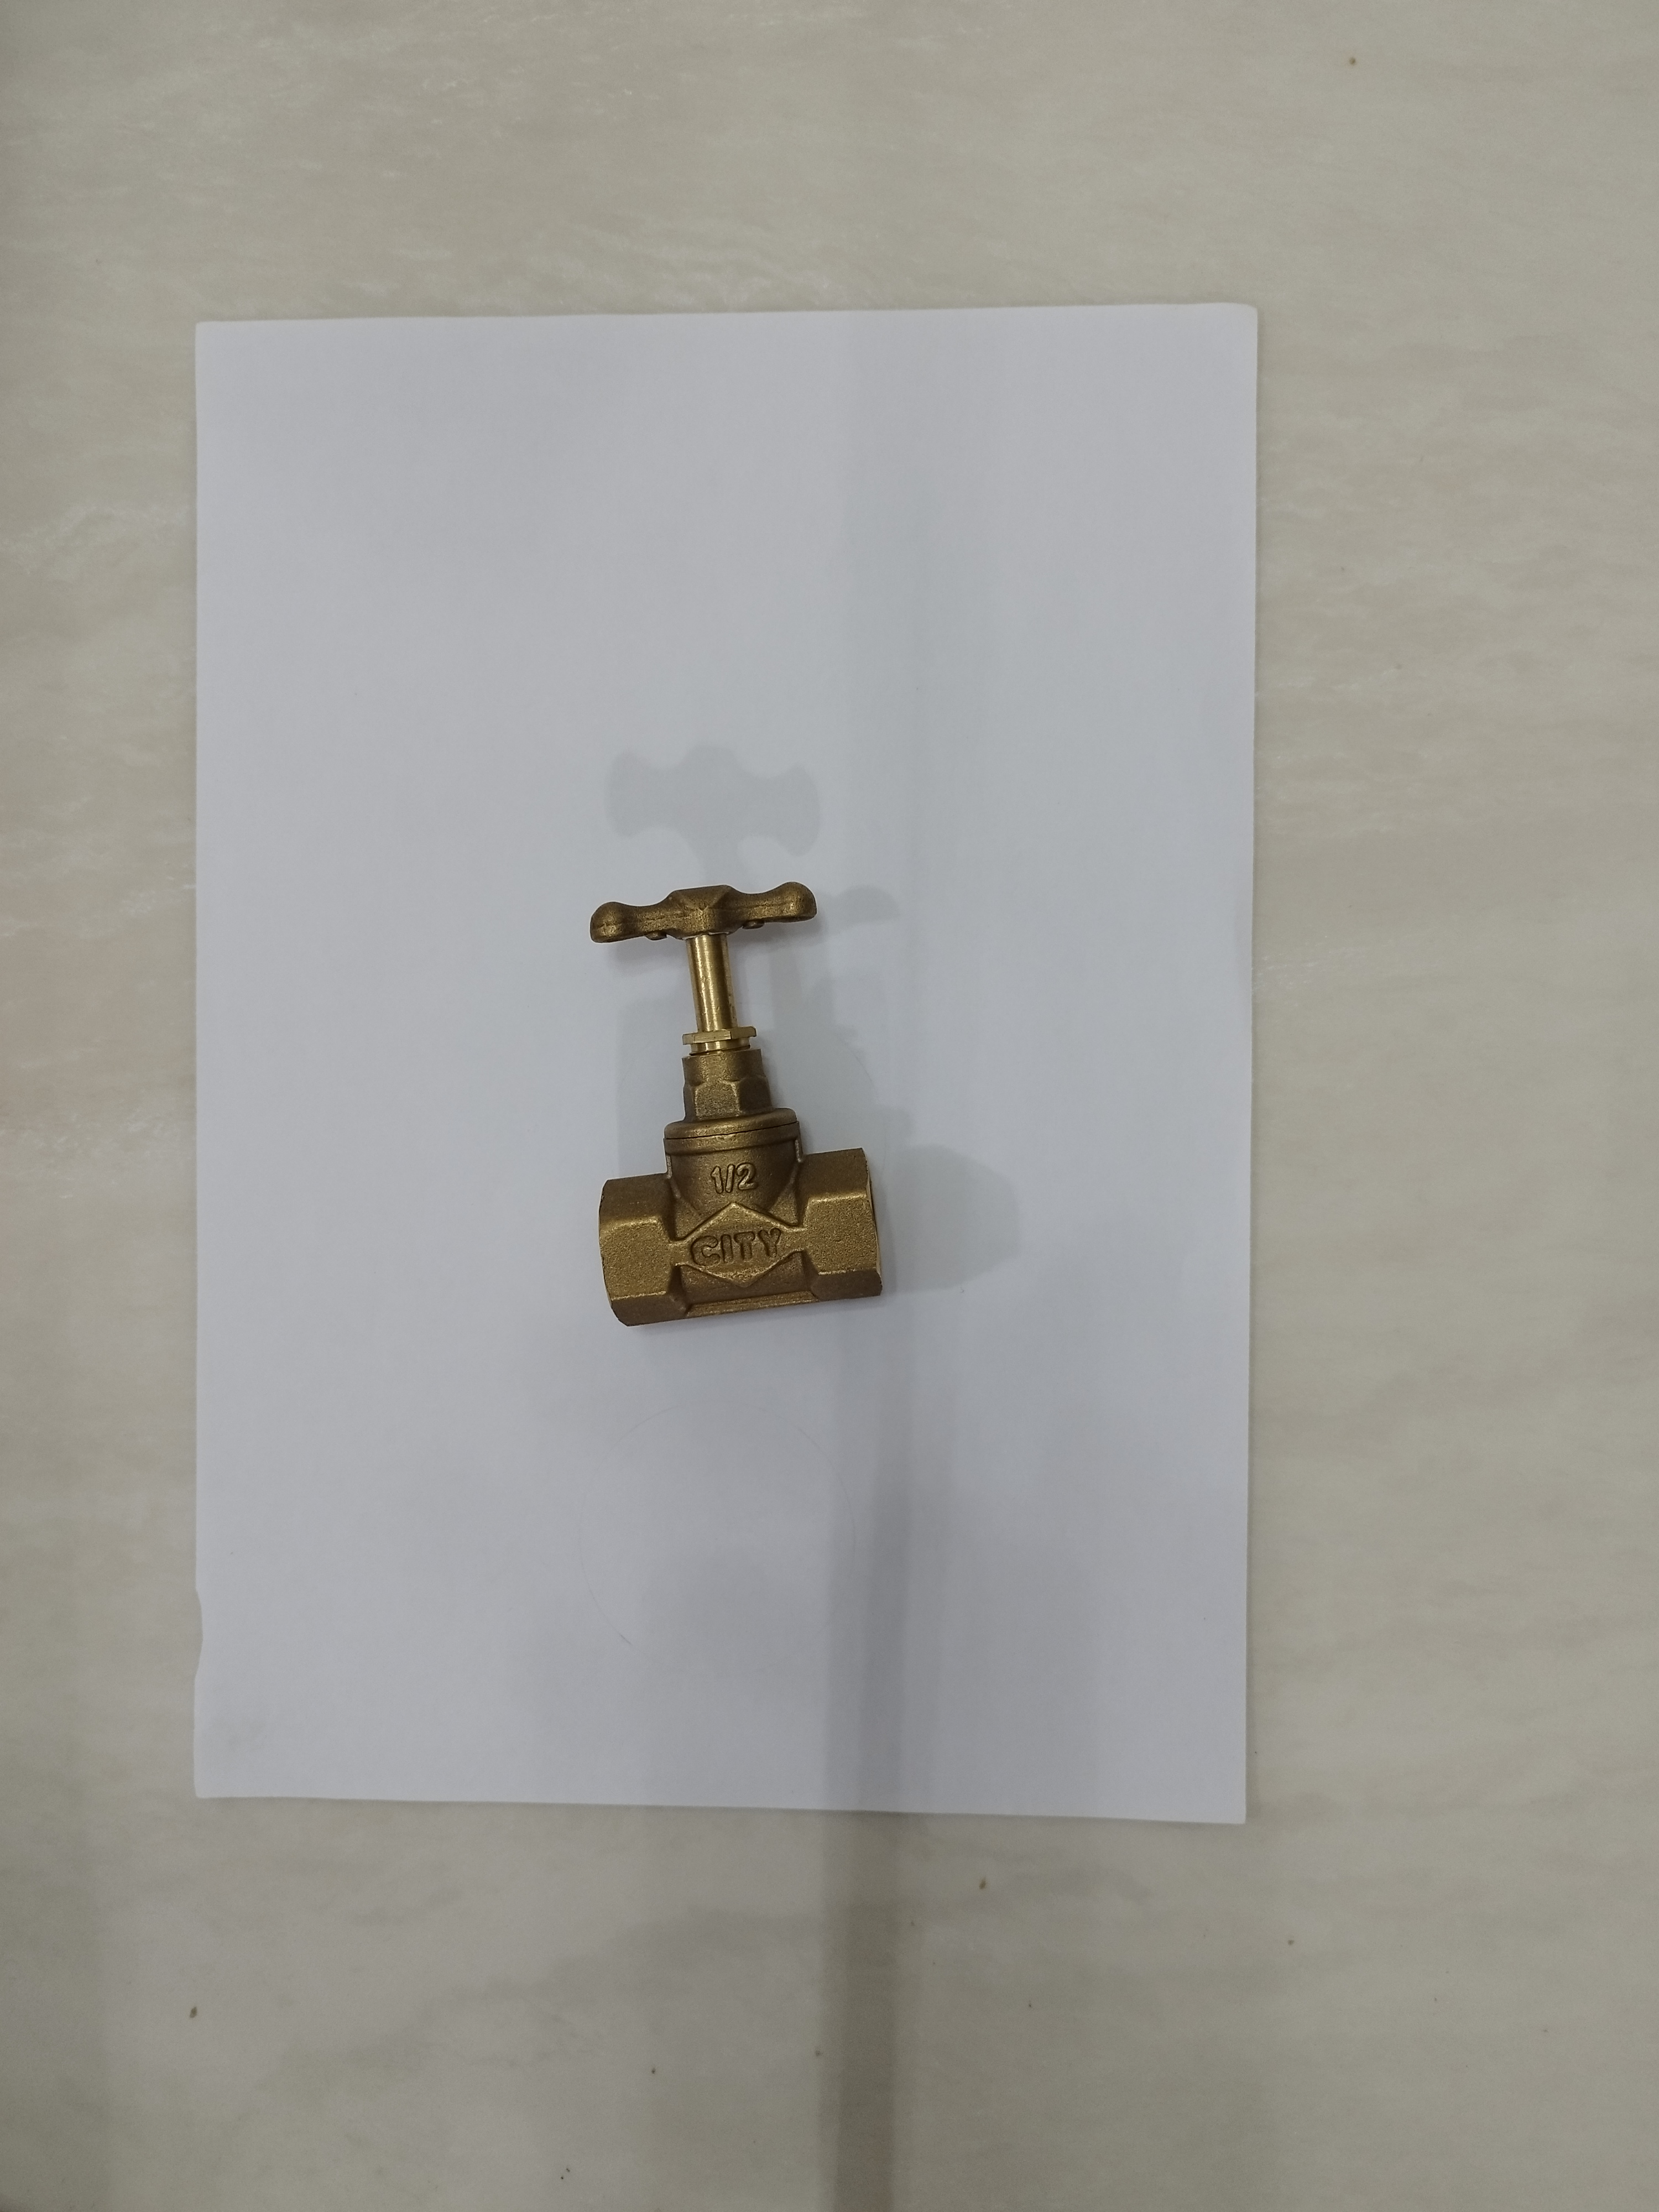brass_gate_valve: (556, 871, 889, 1327)
